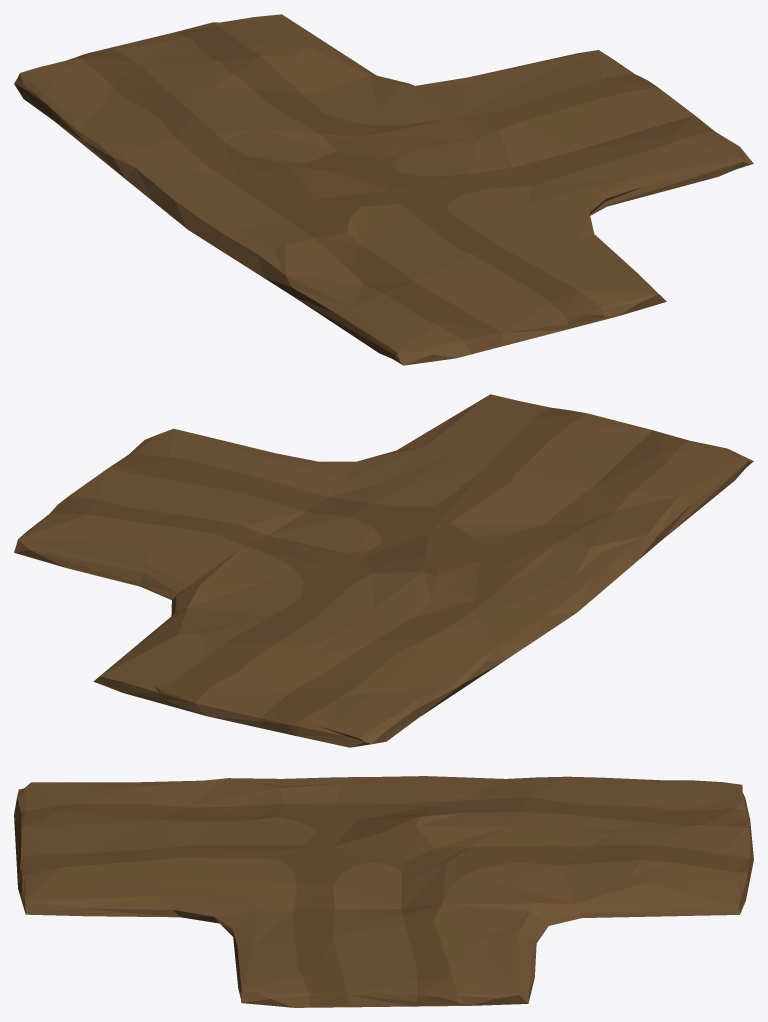
File: Mesh_Landscape_MudRoad_04.FBX
3 views of the same model, one above another, from view 1: azimuth 30°, elevation 25°; view 2: azimuth 150°, elevation 25°; view 3: azimuth 270°, elevation 25° (orthographic). The views are drawn at different scales.
Visible parts, largest first — view 1: Mesh_Landscape_MudRoad_04; view 2: Mesh_Landscape_MudRoad_04; view 3: Mesh_Landscape_MudRoad_04.
Boxes of the visible parts, box(x1,y1,x2,y2) form: Mesh_Landscape_MudRoad_04: box(14, 14, 753, 365); Mesh_Landscape_MudRoad_04: box(14, 394, 753, 747); Mesh_Landscape_MudRoad_04: box(14, 776, 753, 1007).
Bounding box in the file's own units: 610 × 850 × 28.66.
